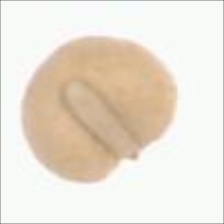L5: (59, 78, 146, 163)
L6: (19, 34, 179, 186)
